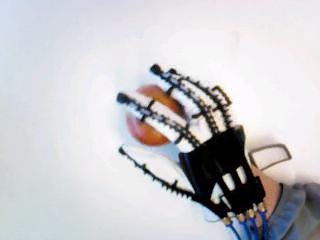apple: (127, 86, 184, 144)
hand: (113, 62, 265, 222)
